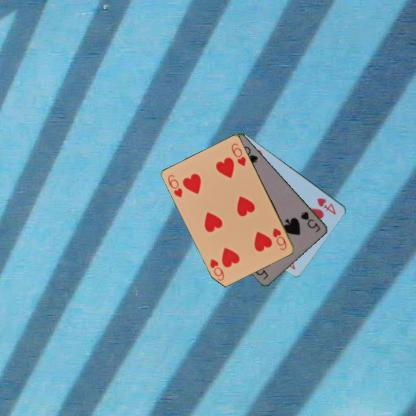4h: (314, 195, 338, 216)
5s: (298, 209, 322, 234)
6h: (166, 172, 184, 199), (270, 226, 288, 252)
